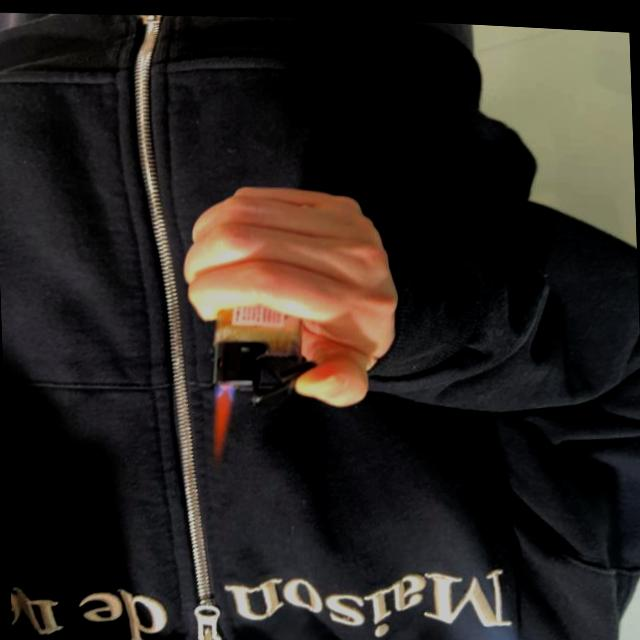Fire: (208, 378, 238, 463)
